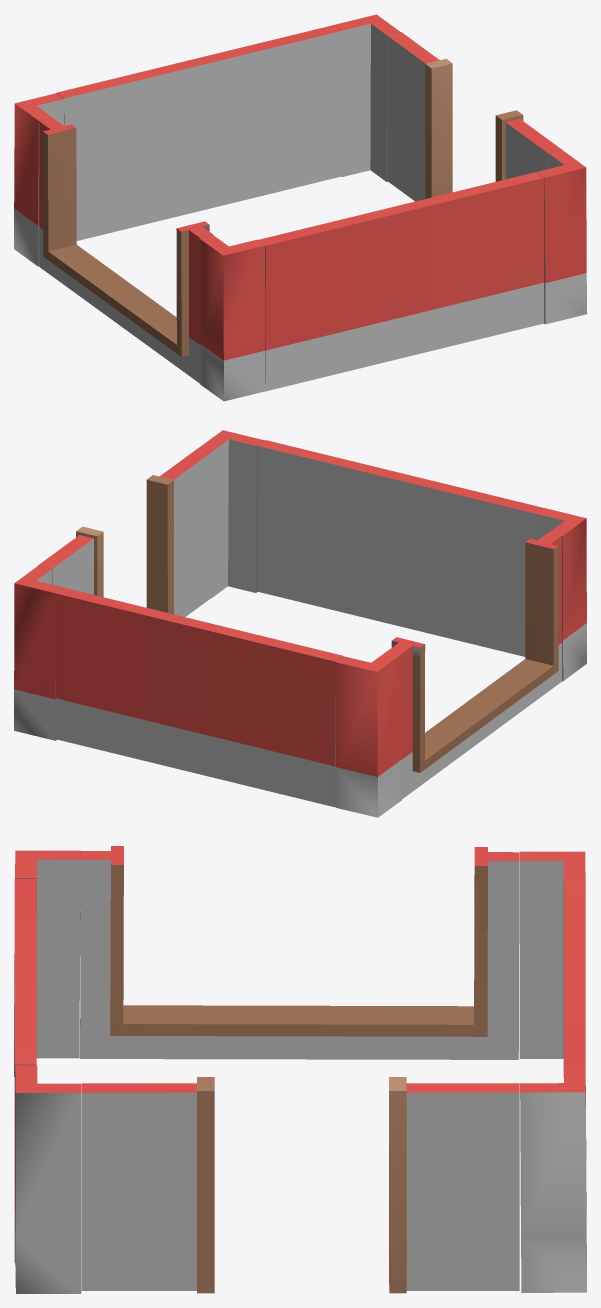
Rendered from COCINA.fbx.
The picture shows the model from 3 angles, top to bottom: view 1: azimuth 30°, elevation 25°; view 2: azimuth 150°, elevation 25°; view 3: azimuth 270°, elevation 25°; orthographic projection. The views are drawn at different scales.
Visible parts, largest first — view 1: paret_basica18, paret_basica21, paret_con_ventana_grande15, paret_puerta34, paret_esquina22, paret_esquina_70, paret_esquina_58, paret_esquina24; view 2: paret_basica21, paret_basica18, paret_con_ventana_grande15, paret_puerta34, paret_esquina24, paret_esquina_58, paret_esquina_70, paret_esquina22; view 3: paret_puerta34, paret_con_ventana_grande15, paret_esquina_58, paret_esquina_70, paret_esquina22, paret_esquina24, paret_basica18, paret_basica21.
Part boxes in pixels (x1,y1,x2,y2): paret_basica18: [258, 172, 544, 391]; paret_basica21: [56, 25, 342, 240]; paret_con_ventana_grande15: [39, 118, 213, 382]; paret_puerta34: [387, 32, 561, 201]; paret_esquina22: [199, 235, 265, 401]; paret_esquina_70: [335, 14, 400, 181]; paret_esquina_58: [537, 150, 586, 324]; paret_esquina24: [14, 93, 64, 266]; paret_basica21: [56, 587, 342, 807]; paret_basica18: [257, 440, 544, 656]; paret_con_ventana_grande15: [388, 532, 562, 799]; paret_puerta34: [38, 448, 212, 616]; paret_esquina24: [335, 651, 401, 817]; paret_esquina_58: [199, 430, 264, 597]; paret_esquina_70: [14, 565, 63, 740]; paret_esquina22: [537, 508, 586, 681]; paret_puerta34: [81, 1077, 519, 1293]; paret_con_ventana_grande15: [80, 846, 519, 1059]; paret_esquina_58: [15, 1065, 81, 1293]; paret_esquina_70: [520, 1064, 586, 1292]; paret_esquina22: [14, 850, 80, 1076]; paret_esquina24: [519, 851, 585, 1077]; paret_basica18: [14, 879, 36, 1262]; paret_basica21: [564, 879, 585, 1064].
Bounding box in the file's own units: 888 × 341 × 865.
